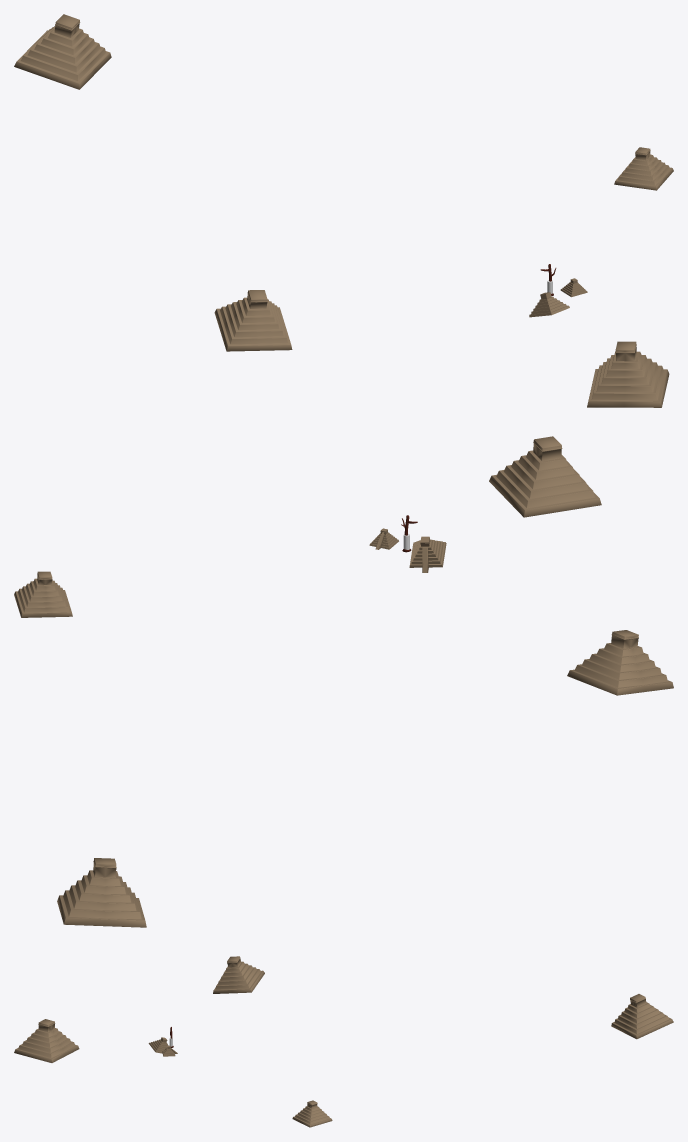
Rendered from cycle_2.glb.
3 views of the same model, one above another, from view 1: azimuth 30°, elevation 25°; view 2: azimuth 150°, elevation 25°; view 3: azimuth 270°, elevation 25° (orthographic). The views are drawn at different scales.
Parts seen in each view (by area): view 1: Pyramid.005, Pyramid.003, Pyramid.004, Pyramid.006; view 2: Pyramid.003, Pyramid.005, Pyramid.004, Pyramid.006, Pyramid.001; view 3: Pyramid.003, Pyramid.005, Pyramid.004, Pyramid.006.
Part boxes in pixels (x1,y1,x2,y2): Pyramid.005: (14, 14, 111, 89); Pyramid.003: (587, 341, 669, 407); Pyramid.004: (214, 290, 292, 351); Pyramid.006: (614, 147, 673, 190); Pyramid.003: (489, 436, 601, 517); Pyramid.005: (57, 858, 146, 927); Pyramid.004: (567, 630, 673, 695); Pyramid.006: (14, 571, 72, 617); Pyramid.001: (409, 536, 446, 567); Pyramid.003: (14, 1019, 79, 1062); Pyramid.005: (611, 994, 673, 1039); Pyramid.004: (213, 956, 264, 993); Pyramid.006: (292, 1100, 332, 1127).
Bounding box in the file's own units: 725 × 75.26 × 1292.
